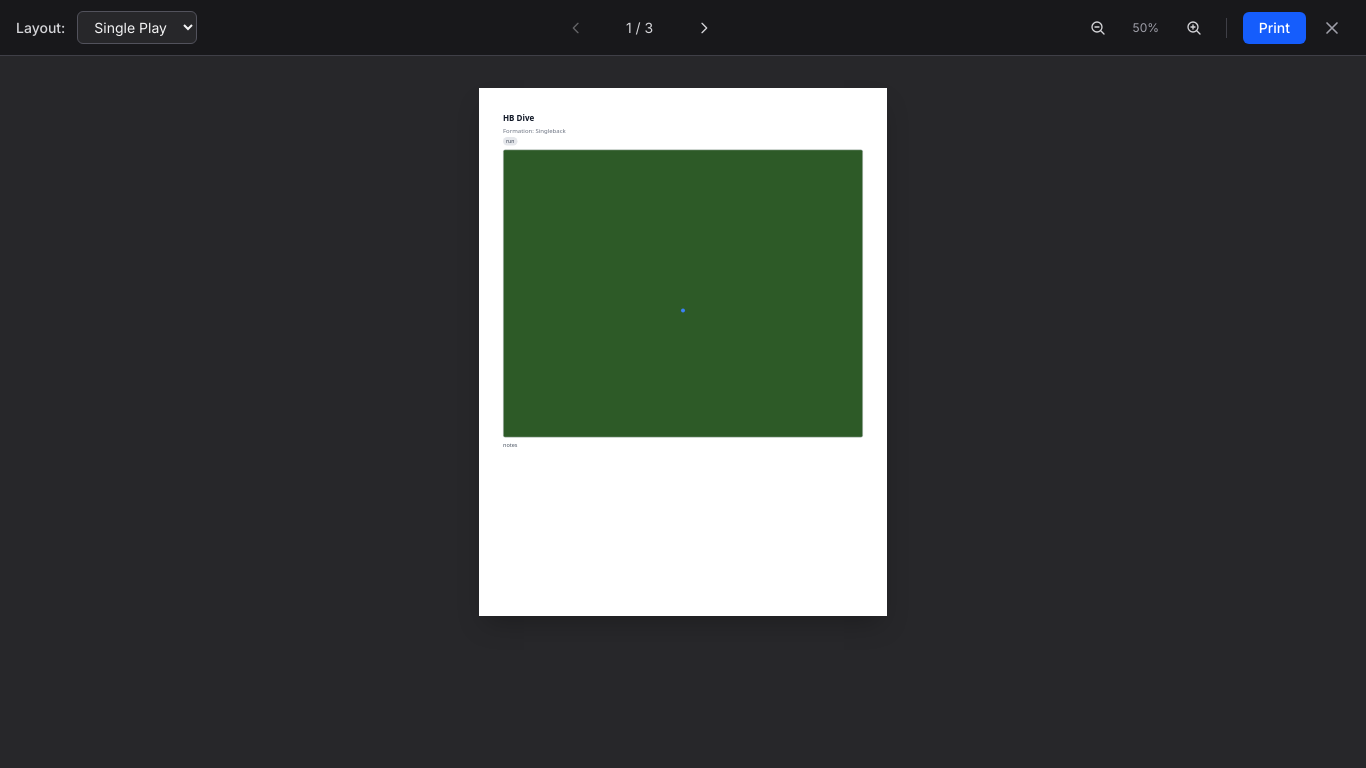
it: PrintPreview › Page navigation › next button is disabled on last page
The width and height of the screenshot is (1366, 768).
Click the button with test id "next-page-btn" at point(704, 28), box [688,16,720,40]
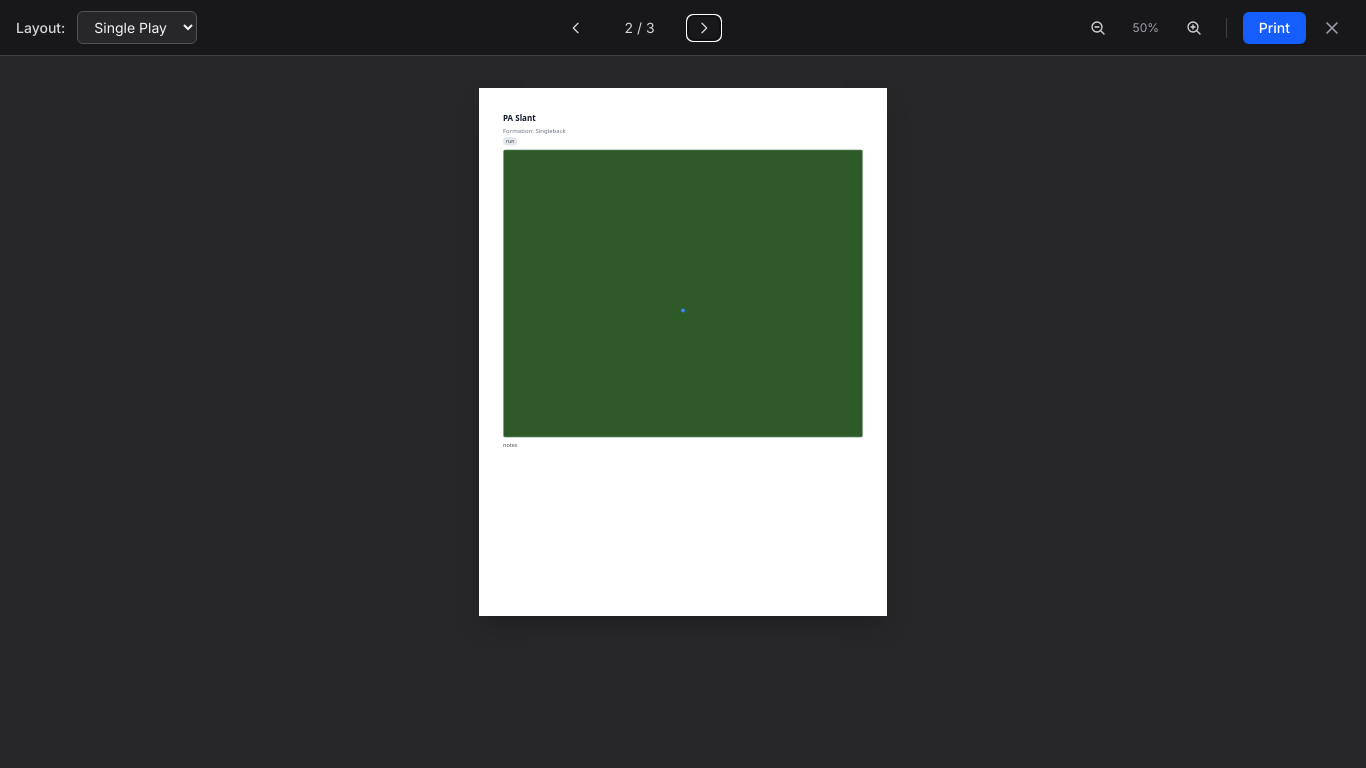
Click the button with test id "next-page-btn" at point(704, 28), box [688,16,720,40]
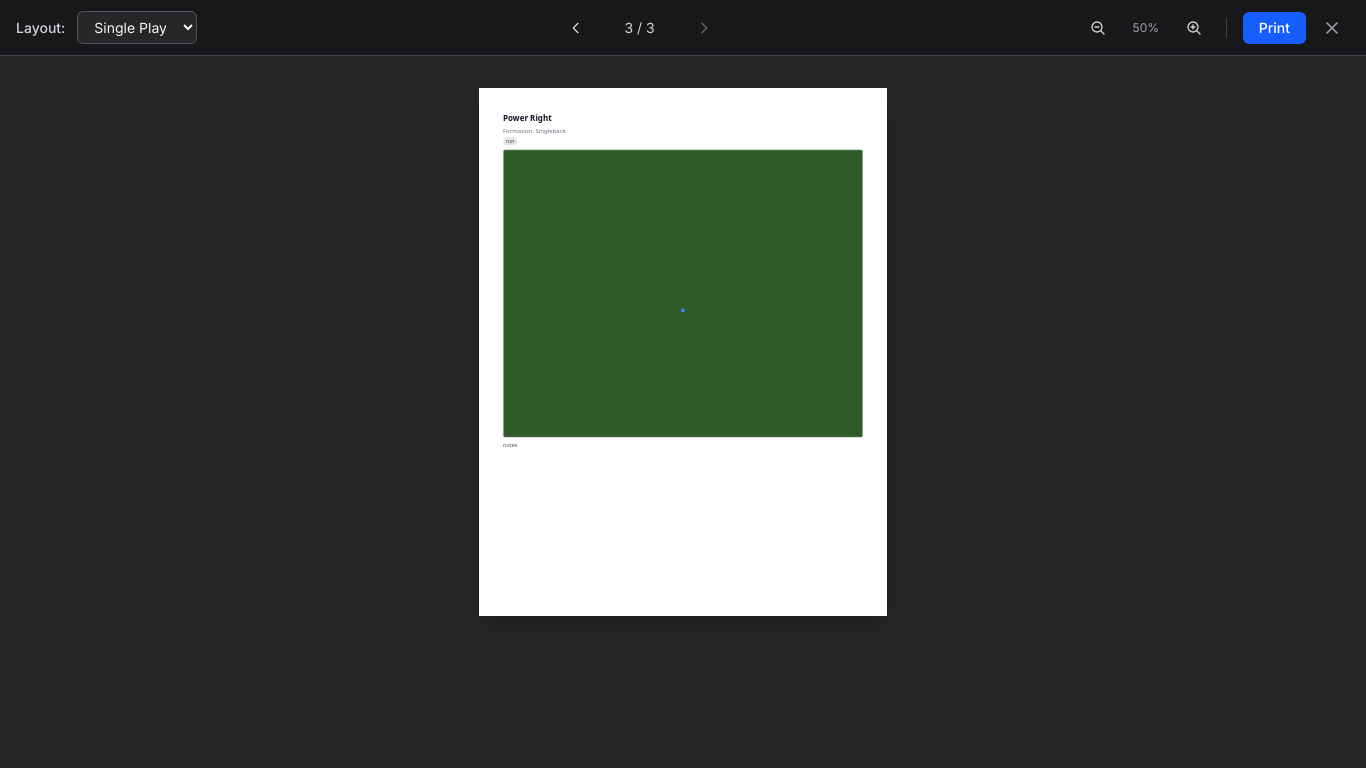
Result: the button with test id "next-page-btn" is disabled at [688,16,720,40]
